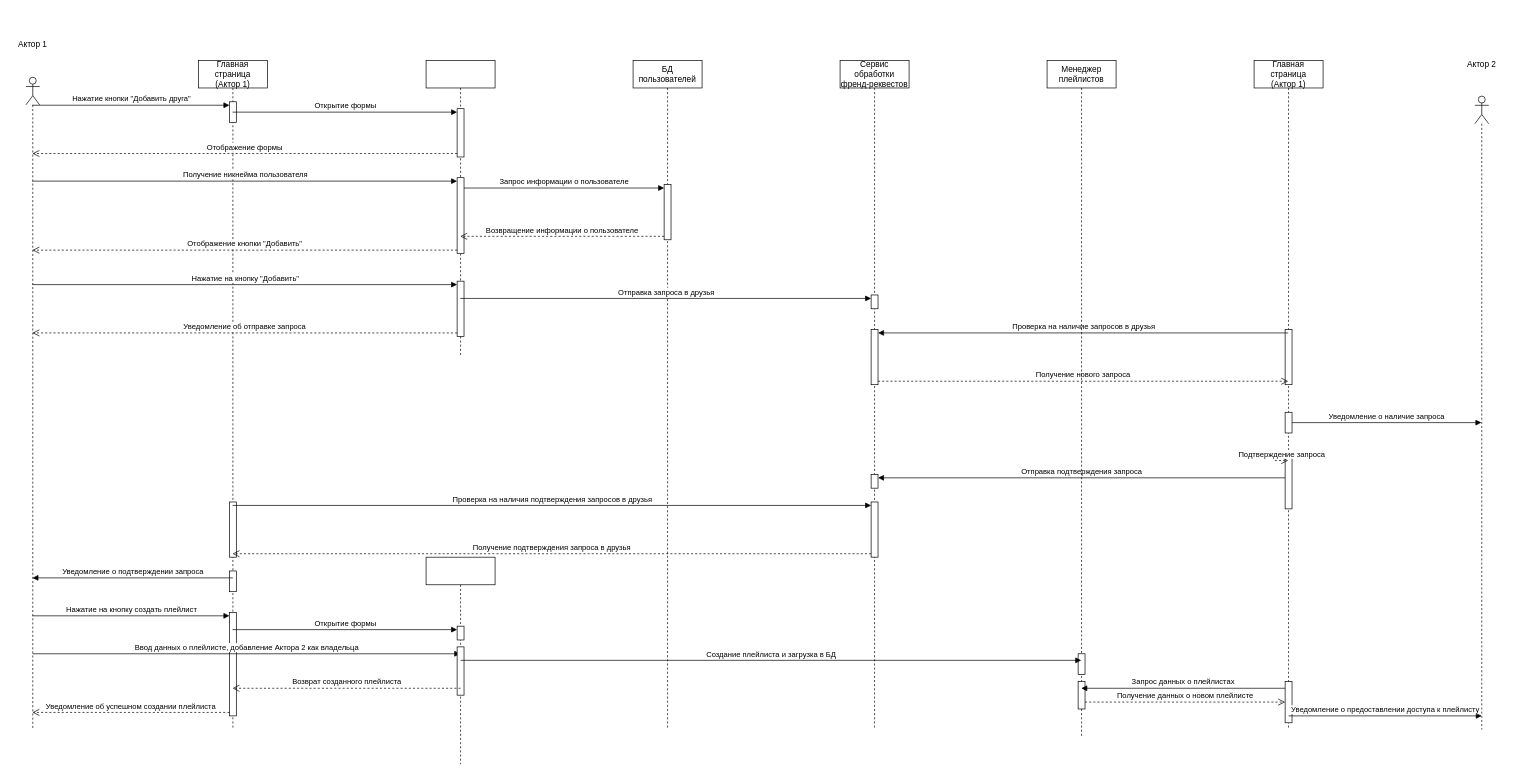
Image size: 1514x776. Some labels were removed from this diagram. Each missing label, with the centre of its shape:
"Форма поиска по никнейму" goes at pixel 460 208.
"Форма создания плейлиста" goes at pixel 460 660.
